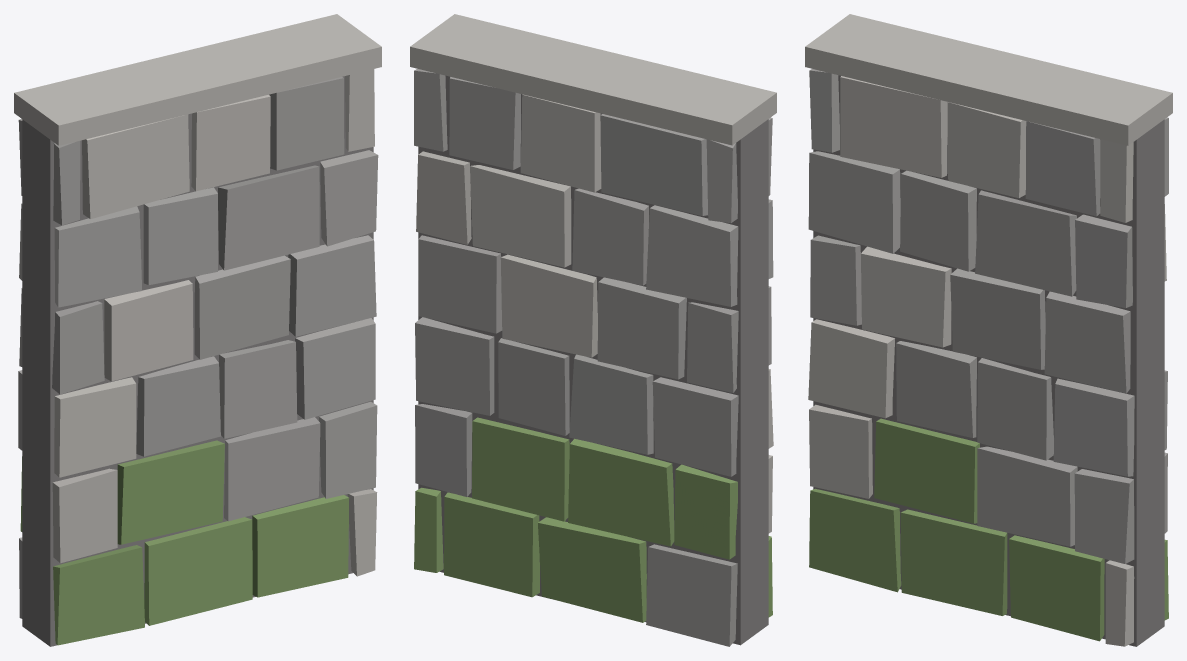
File: SM_Wall_Mossy.glb
3 views of the same model, side by side, from view 1: azimuth 30°, elevation 25°; view 2: azimuth 150°, elevation 25°; view 3: azimuth 330°, elevation 25° (orthographic).
Parts seen in each view (by area): view 1: SM_Wall_Mossy; view 2: SM_Wall_Mossy; view 3: SM_Wall_Mossy.
Boxes of the visible parts, x1,y1,x2,y2 form: SM_Wall_Mossy: [14, 14, 381, 646]; SM_Wall_Mossy: [410, 14, 776, 646]; SM_Wall_Mossy: [805, 14, 1172, 646].
Size of the model in its own units: 2 by 3.12 by 0.48.
